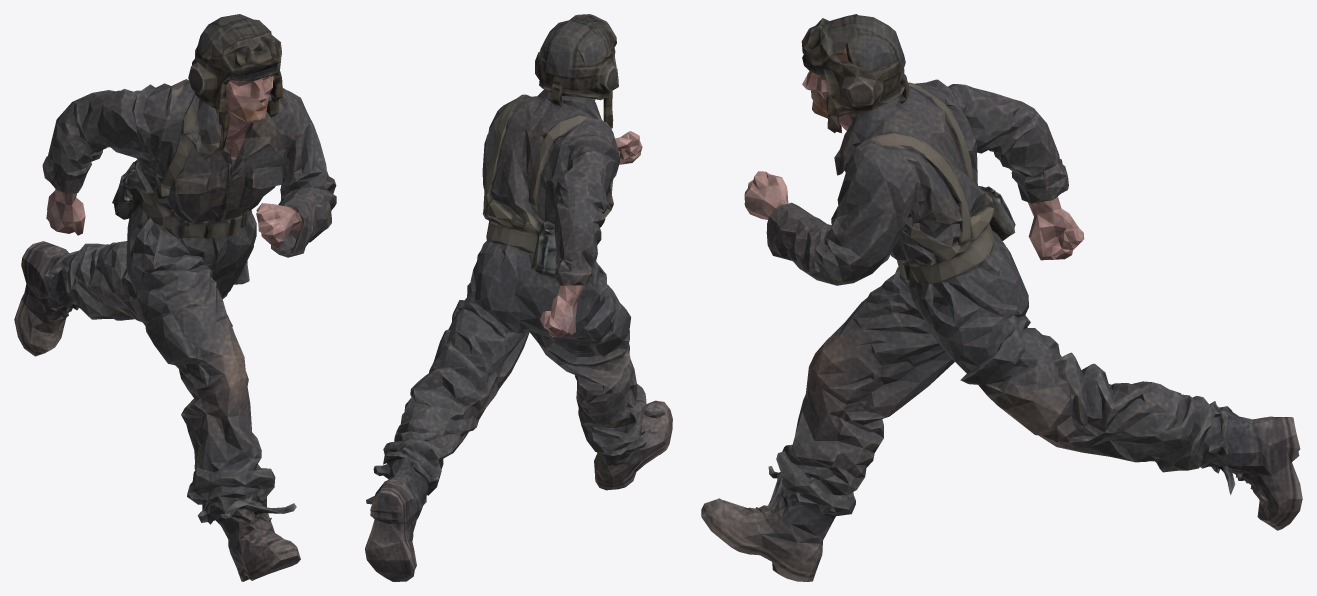
File: tanker_su_run.obj
3 views of the same model, side by side, from view 1: azimuth 30°, elevation 25°; view 2: azimuth 150°, elevation 25°; view 3: azimuth 270°, elevation 25° (orthographic). The views are drawn at different scales.
Parts seen in each view (by area): view 1: tanker_su_run; view 2: tanker_su_run; view 3: tanker_su_run.
Part boxes in pixels (bbox=[...]): tanker_su_run: bbox=[14, 14, 336, 581]; tanker_su_run: bbox=[365, 14, 672, 581]; tanker_su_run: bbox=[701, 14, 1302, 581].
Size of the model in its own units: 0.6638 by 1.72 by 1.66.
Materials: 1 (1 with a texture image).
